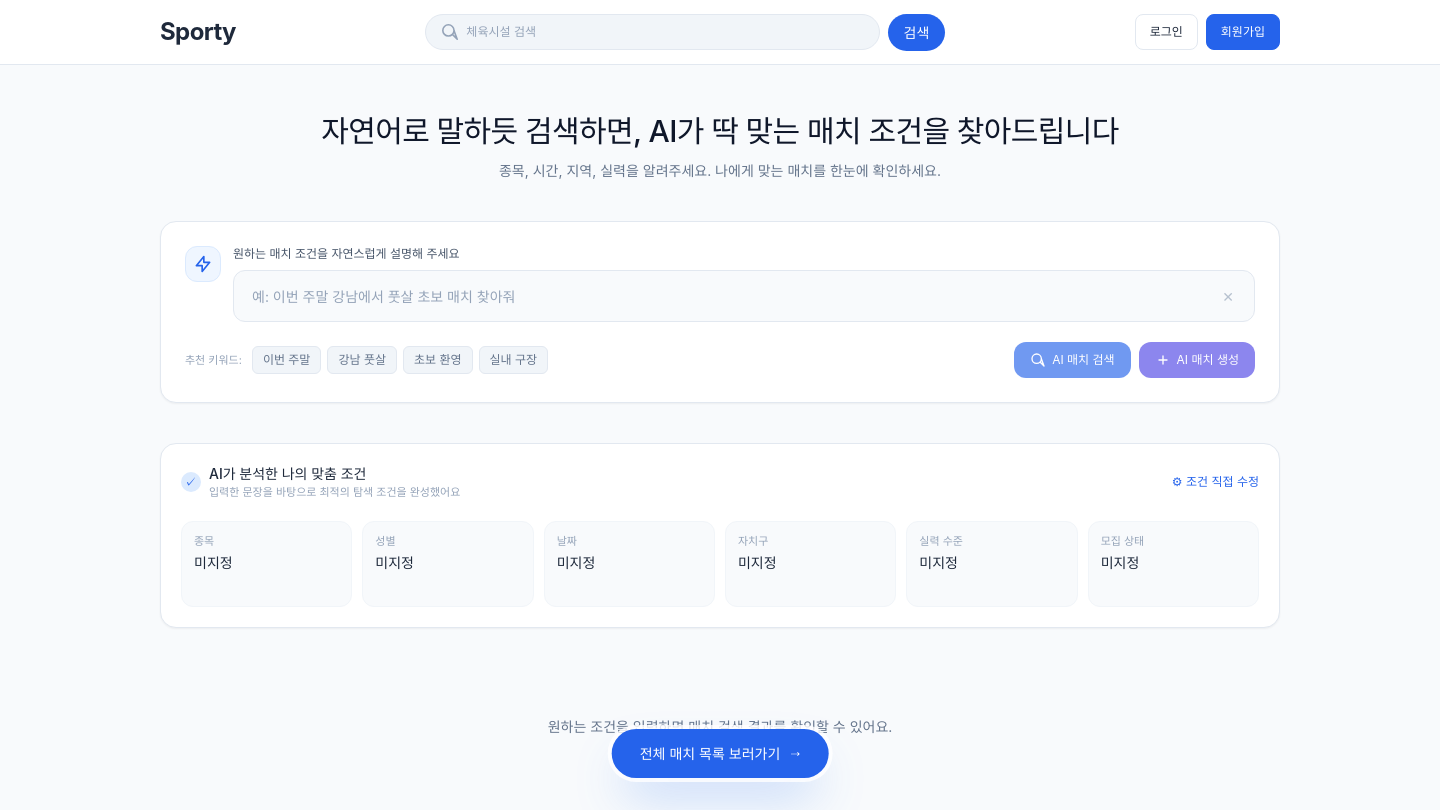
opens the match search page from the floating link
Click the link "전체 매치 목록 보러가기".
click(720, 754)  # box [612,729,828,778]
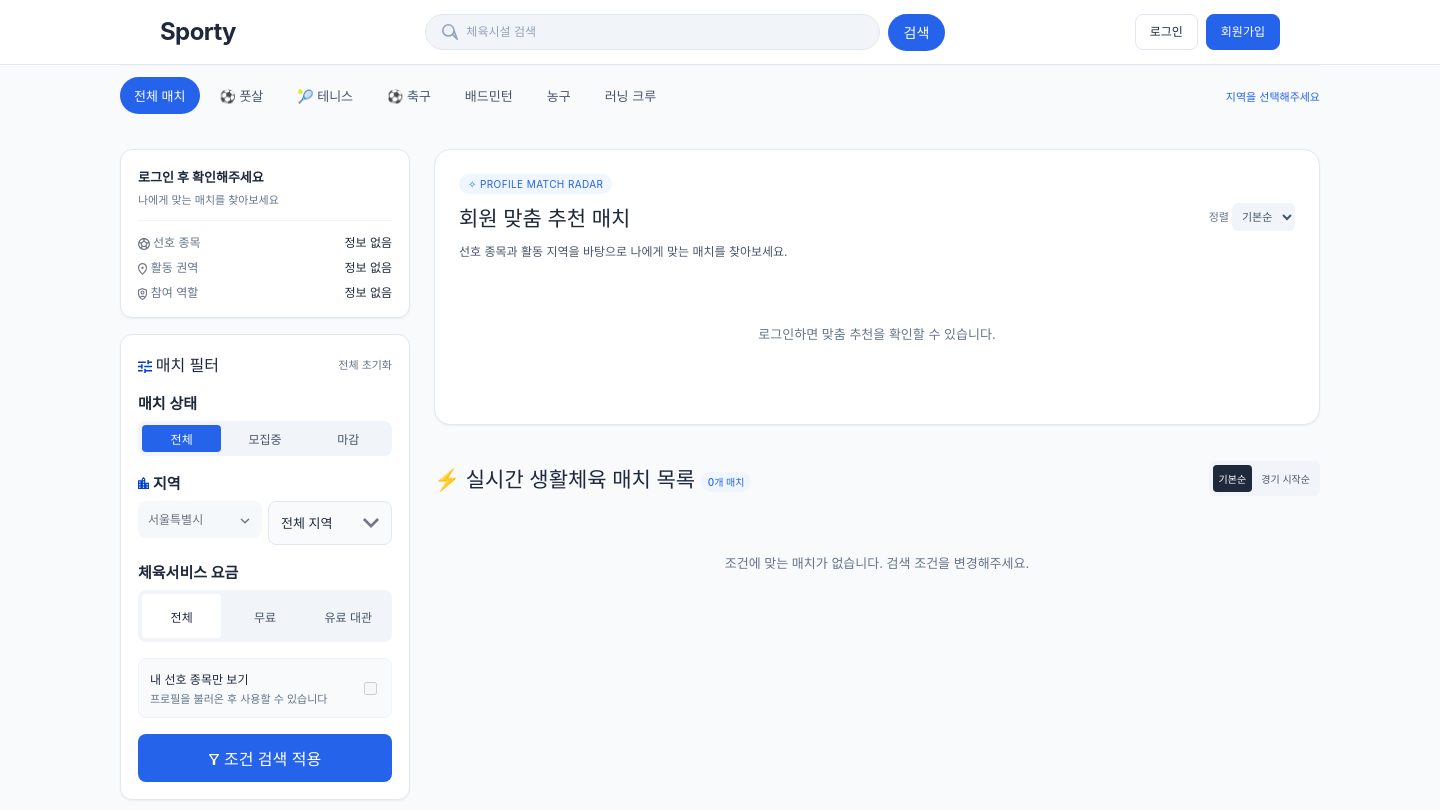
Result: the heading "회원 맞춤 추천 매치" is shown at [459,202,630,232]
Result: the text "조건에 맞는 매치가 없습니다. 검색 조건을 변경해주세요." is shown at [725,555,1029,571]
